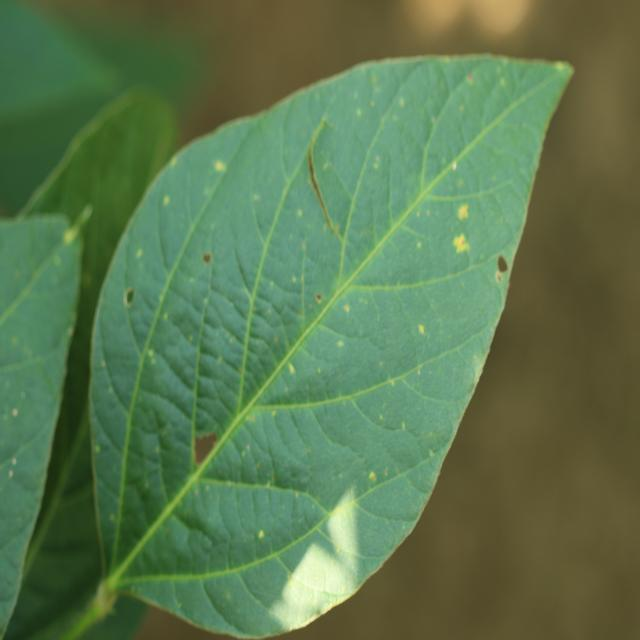Soybean: (0, 54, 576, 640)
downey_mildew: (185, 357, 342, 521), (294, 266, 448, 428), (240, 227, 340, 373), (424, 174, 489, 285), (285, 544, 357, 607), (2, 387, 40, 478), (64, 228, 77, 244), (457, 203, 469, 220), (125, 287, 135, 306), (82, 271, 92, 286), (202, 251, 212, 265), (555, 61, 566, 71), (217, 160, 226, 171), (147, 348, 155, 359), (162, 195, 170, 206), (135, 248, 143, 259), (54, 255, 61, 266), (418, 324, 425, 335), (467, 73, 474, 83), (398, 97, 405, 107), (11, 336, 18, 346), (253, 193, 260, 202), (170, 156, 177, 165), (323, 162, 330, 171), (356, 107, 362, 117), (67, 326, 73, 336), (373, 160, 379, 169), (297, 208, 303, 217), (499, 77, 505, 86), (12, 408, 18, 417), (20, 391, 26, 400), (204, 297, 210, 306), (452, 161, 457, 171), (249, 414, 255, 422), (8, 470, 14, 478), (177, 601, 183, 609), (12, 457, 17, 466), (271, 410, 277, 417), (109, 514, 115, 521), (292, 275, 297, 283), (417, 241, 422, 249), (218, 355, 223, 363), (163, 312, 168, 320), (459, 104, 464, 112), (144, 481, 149, 489), (155, 445, 160, 453), (95, 445, 100, 452), (194, 489, 199, 496), (274, 336, 279, 343), (246, 443, 251, 450), (101, 360, 106, 367), (164, 527, 169, 534), (6, 380, 10, 388), (302, 242, 306, 249), (226, 592, 230, 599), (416, 211, 420, 217), (256, 462, 260, 468), (238, 367, 242, 373)
